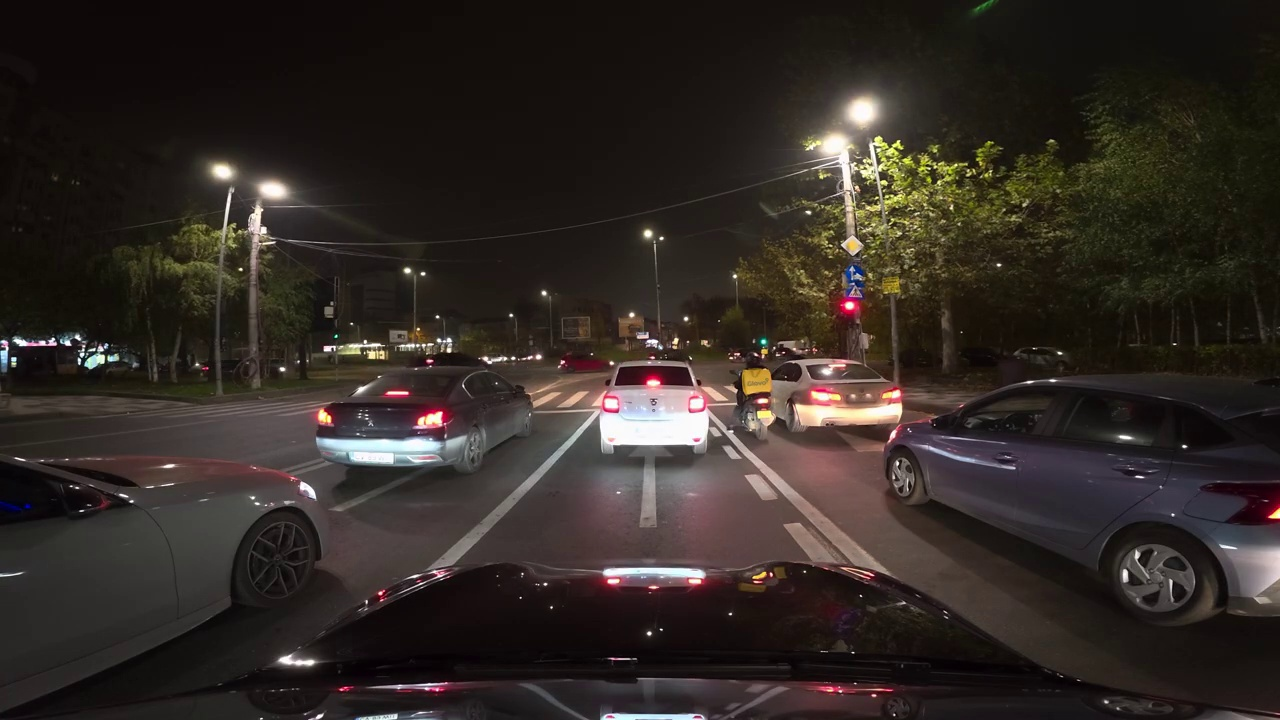acesa: (848, 98, 877, 125), (208, 159, 237, 185), (259, 178, 289, 203), (639, 224, 662, 248)
